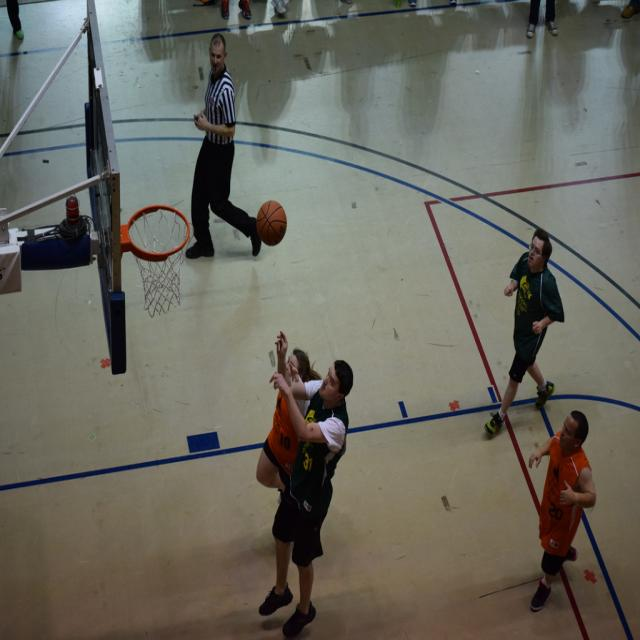Ball: (256, 200, 287, 246)
